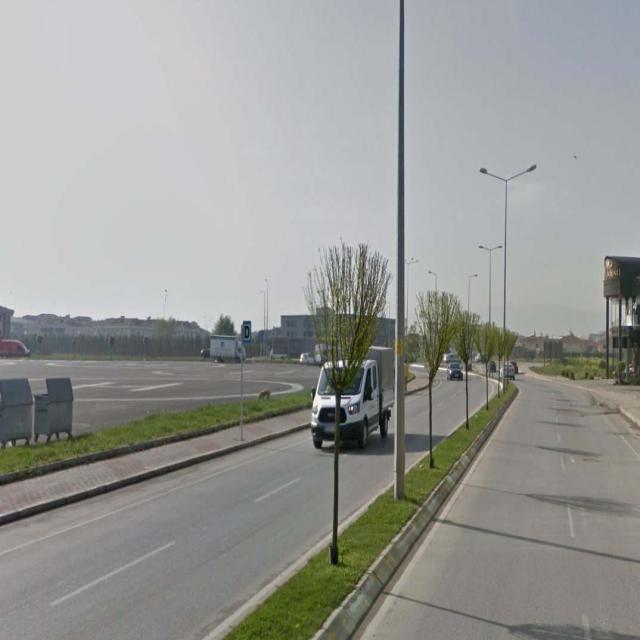durak: (242, 322, 251, 342)
